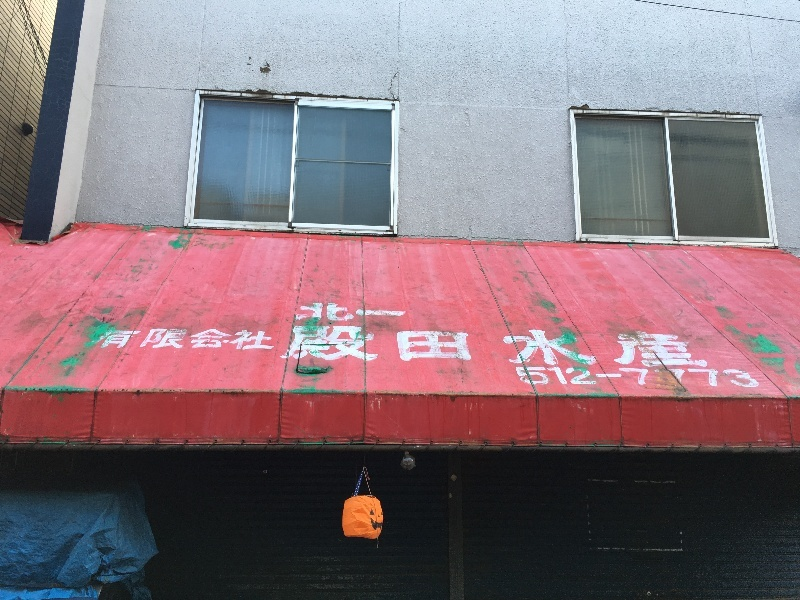text: (513, 330, 528, 368), (529, 330, 544, 368), (545, 330, 560, 368), (561, 330, 576, 368), (577, 330, 592, 368), (593, 330, 608, 368), (609, 330, 624, 368), (625, 330, 640, 368), (641, 330, 656, 368), (657, 330, 672, 368), (673, 330, 688, 368), (689, 330, 704, 368), (289, 325, 304, 362), (305, 325, 320, 362), (321, 325, 336, 362), (337, 325, 352, 362), (353, 325, 368, 362), (369, 325, 384, 362), (385, 325, 400, 362), (401, 325, 416, 362), (417, 325, 432, 362), (433, 325, 448, 362), (449, 325, 464, 362), (502, 330, 512, 368), (305, 302, 320, 327), (321, 302, 336, 327), (337, 302, 352, 327), (353, 302, 368, 327), (369, 302, 384, 327), (385, 302, 400, 327), (97, 327, 112, 351), (113, 327, 128, 351), (129, 327, 144, 351), (145, 327, 160, 351), (161, 327, 176, 351), (177, 327, 192, 351), (193, 327, 208, 351), (209, 327, 224, 351), (225, 327, 240, 351), (241, 327, 256, 351), (257, 327, 272, 351), (529, 368, 544, 388), (545, 368, 560, 388), (561, 368, 576, 388), (577, 368, 592, 388), (593, 368, 608, 388), (609, 368, 624, 388), (625, 368, 640, 388), (641, 368, 656, 388), (657, 368, 672, 388), (673, 368, 688, 388), (689, 368, 704, 388), (705, 368, 720, 388), (721, 368, 736, 388), (737, 368, 752, 388), (465, 325, 473, 362), (516, 368, 528, 388), (88, 327, 96, 351), (401, 302, 408, 327), (753, 368, 761, 388), (298, 302, 304, 327), (705, 330, 708, 368), (273, 327, 275, 351)
